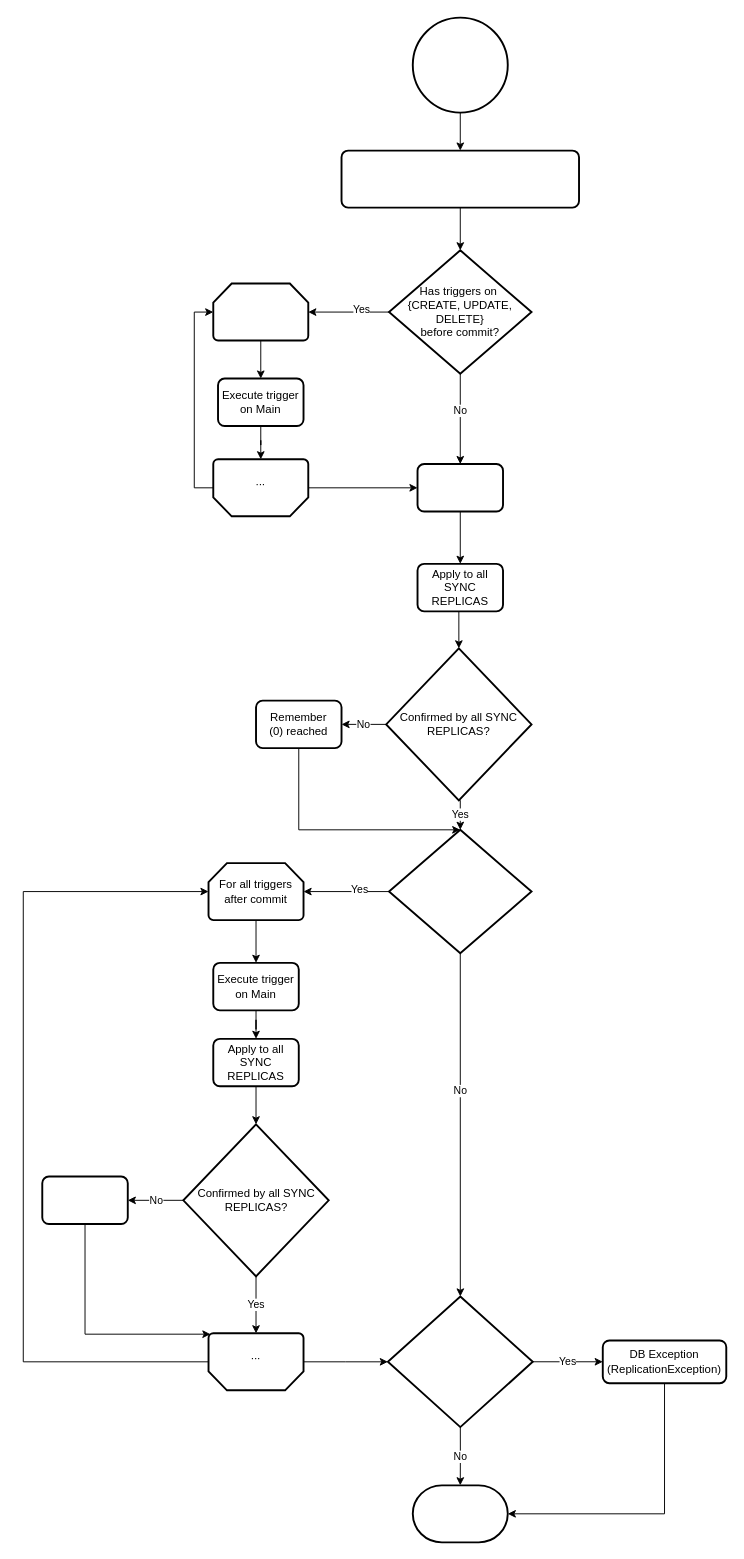
Some shapes in this 744 by 1559 pixel diagram are drawn without their labels. The centre of each missing label's shape, as x and y in pixels:
"Apply changes on Main" belongs at point (460, 487).
"CREATE or UPDATE or DELETE" belongs at point (460, 178).
"For all triggers before commit" belongs at point (260, 311).
"Has (1) or (2) ever been reached?" belongs at point (459, 1361).
"Has triggers on {CREATE, UPDATE, DELETE} after commit?" belongs at point (460, 891).
"Remember (1) reached" belongs at point (84, 1200).
